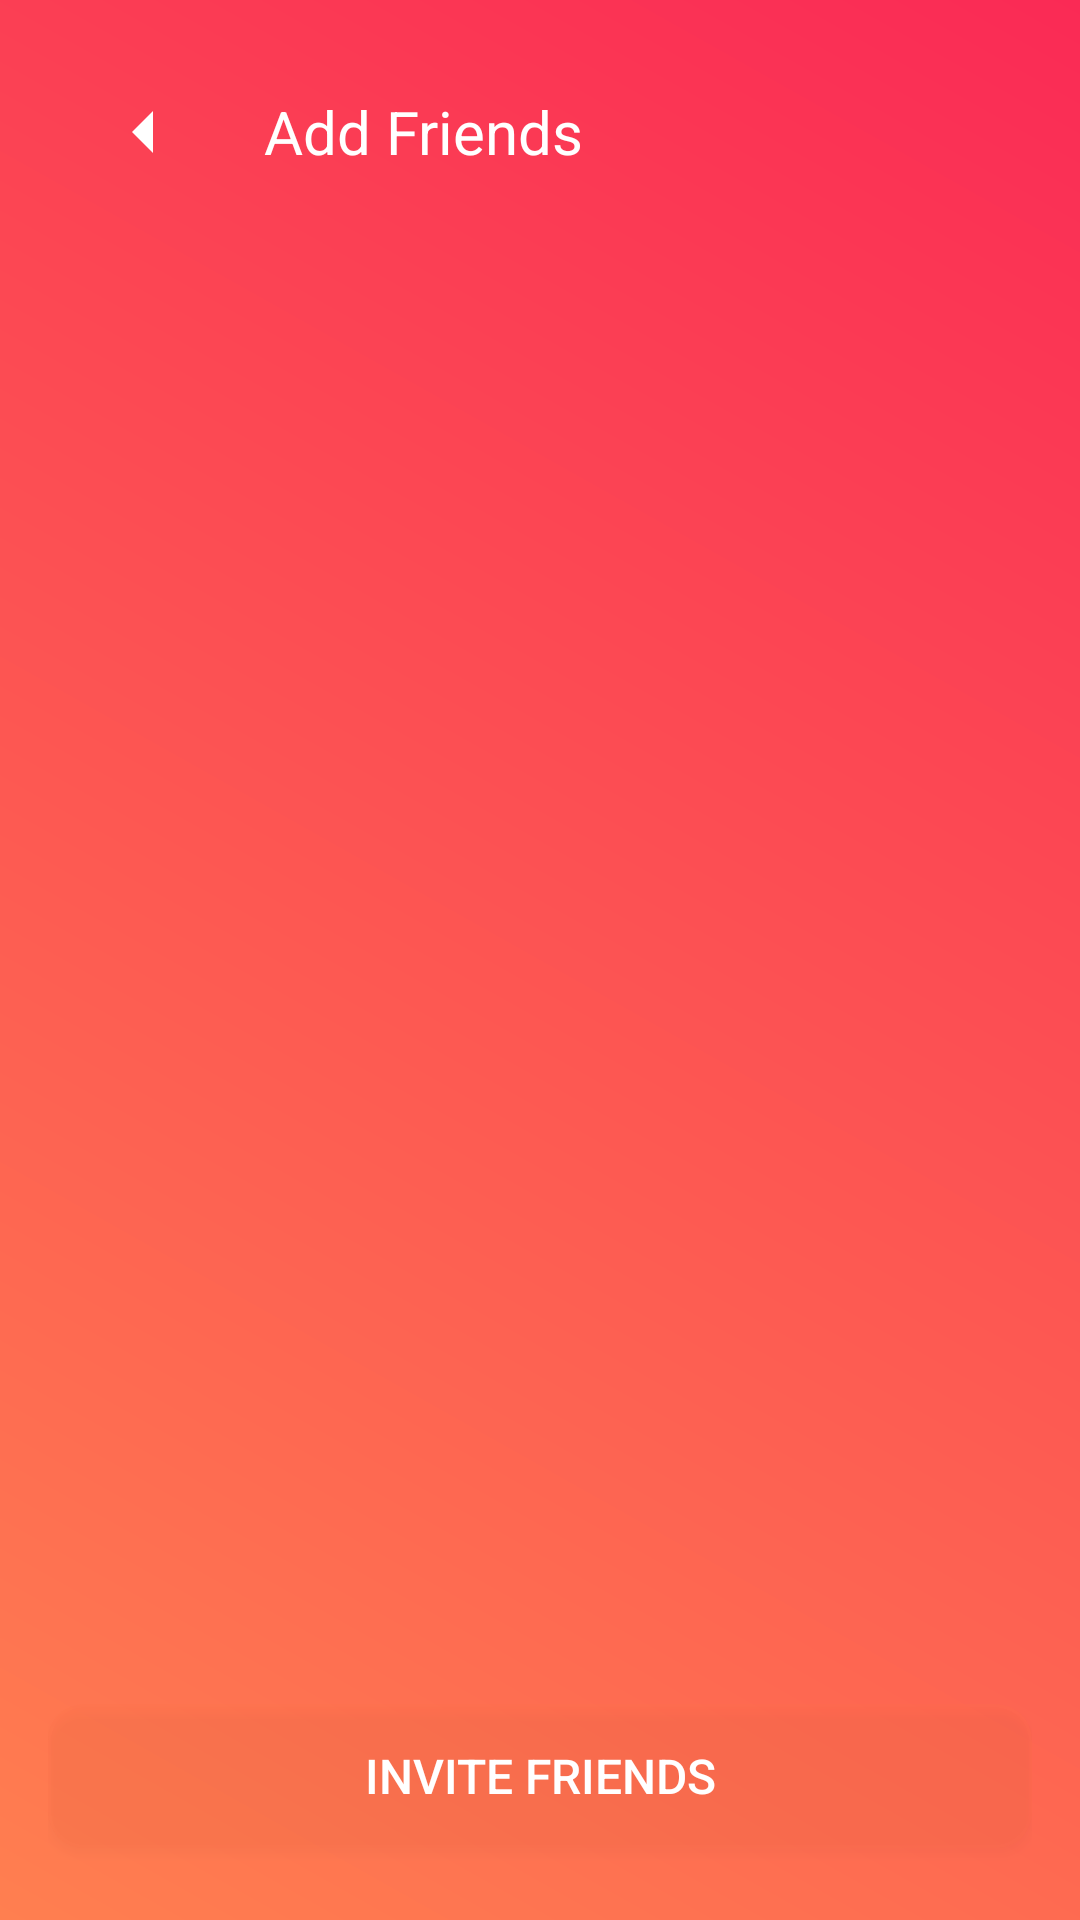

Icons on this 1080px×1920px Android screen, each with the point to tap as (x=x, y=y):
Back: (x=142, y=132)
